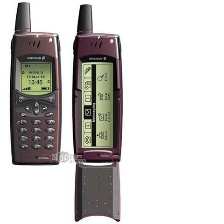phone: (5, 0, 64, 169), (68, 0, 128, 164)
